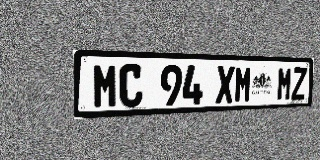4: (182, 65, 203, 105)
9: (161, 64, 182, 106)
C: (119, 64, 143, 108)
M: (93, 63, 118, 109), (234, 66, 252, 103), (276, 67, 293, 101)
X: (216, 65, 235, 104)
Z: (291, 67, 307, 100)
